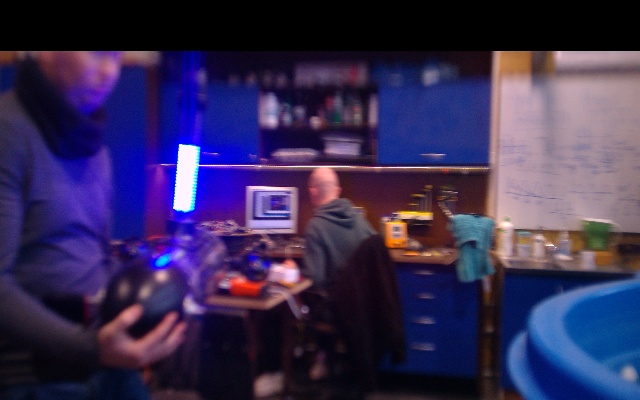blue: (174, 145, 200, 215)
